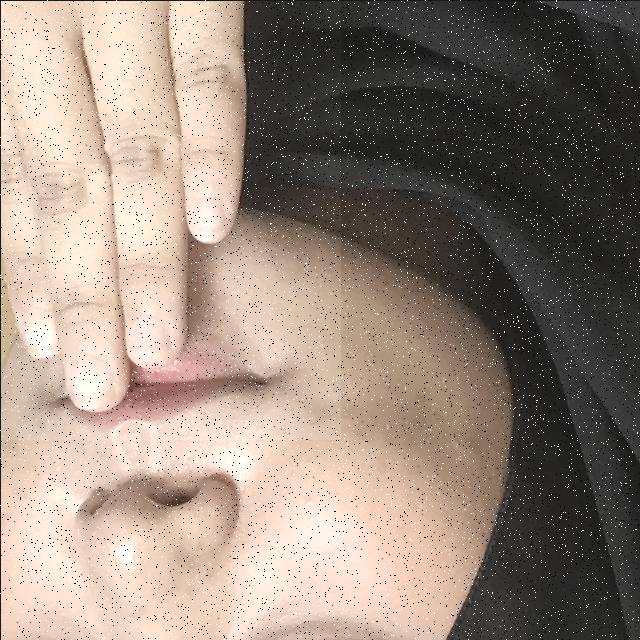ganteng: (0, 0, 340, 439)
